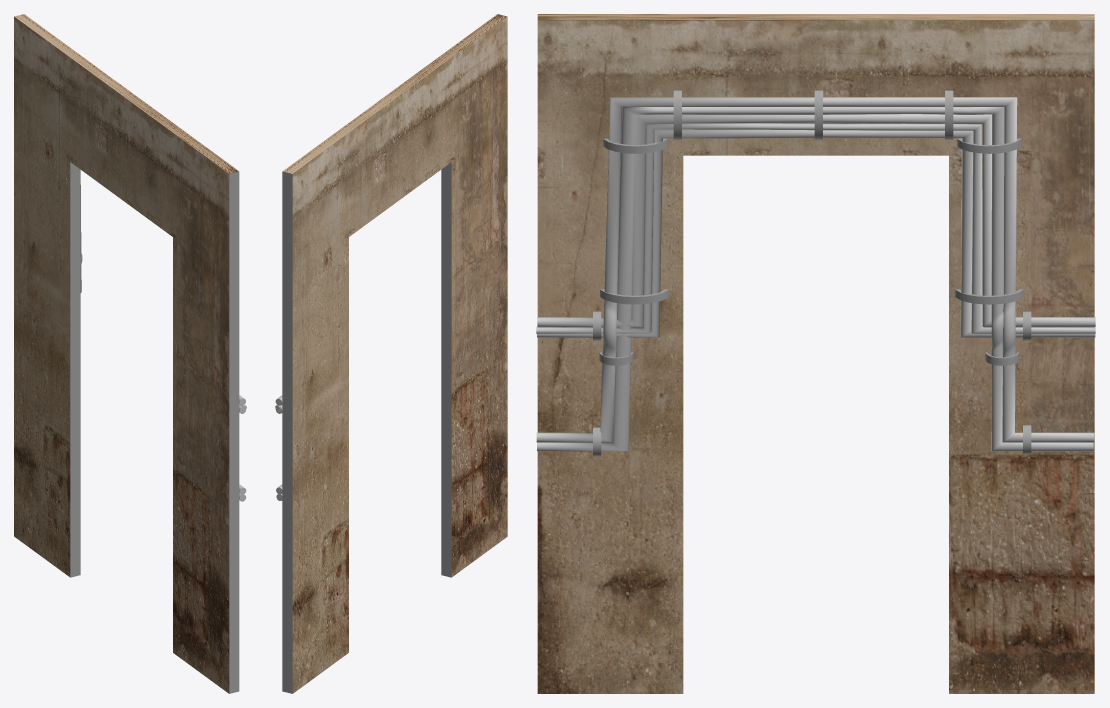
File: Temp_wall_wires_doorframe.fbx
3 renders of one model, left to right at view 1: azimuth 30°, elevation 25°; view 2: azimuth 150°, elevation 25°; view 3: azimuth 270°, elevation 25°, orthographic. The views are drawn at different scales.
Parts seen in each view (by area): view 1: wall; view 2: wall; view 3: wall, wire4, wire5, wire1, wire2, wire3.
Part boxes in pixels (x1,y1,x2,y2): wall: (14, 14, 239, 693); wall: (282, 14, 507, 693); wall: (537, 14, 1094, 693); wire4: (536, 97, 1094, 442); wire5: (537, 107, 1093, 451); wire1: (537, 114, 1095, 326); wire2: (537, 129, 1095, 337); wire3: (536, 123, 1095, 333).
Bounding box in the file's own units: 0.0992 × 2.07 × 1.56.
